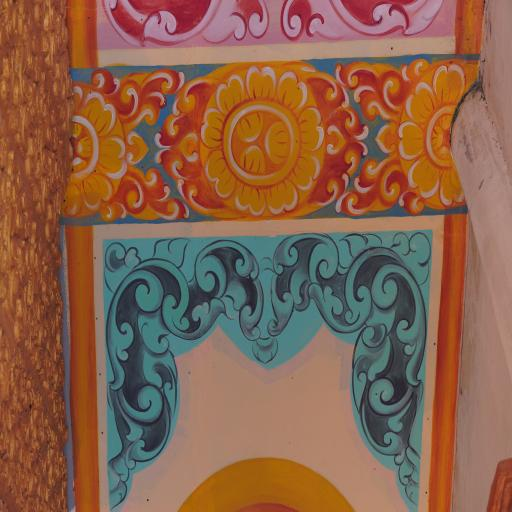hoa: (201, 64, 326, 220), (398, 59, 466, 215), (60, 82, 127, 213)
la: (261, 227, 431, 512), (100, 233, 262, 506), (309, 63, 370, 223), (158, 76, 220, 214), (96, 0, 273, 41), (278, 0, 449, 41), (96, 64, 186, 122), (338, 154, 422, 216), (101, 166, 190, 222), (335, 58, 405, 125)
